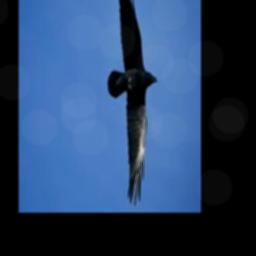Crow: (107, 0, 158, 204)
